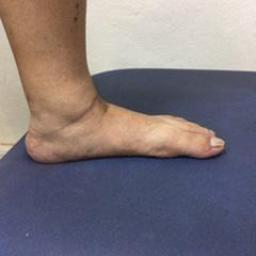Medial View -Left Foot-: (12, 68, 227, 182)
